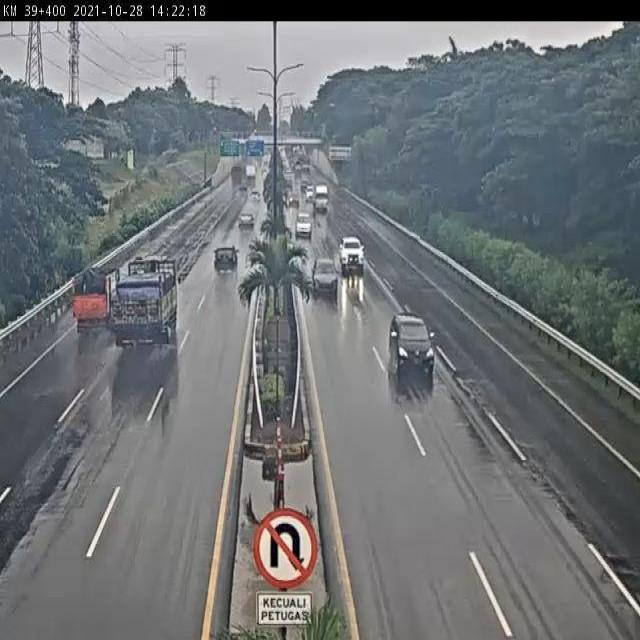car: (388, 315, 437, 377), (312, 256, 340, 297), (338, 236, 365, 272), (213, 241, 239, 275), (293, 209, 312, 240), (235, 209, 256, 235)
truck-l-: (113, 253, 178, 347)
truck-s-: (72, 271, 116, 329)
